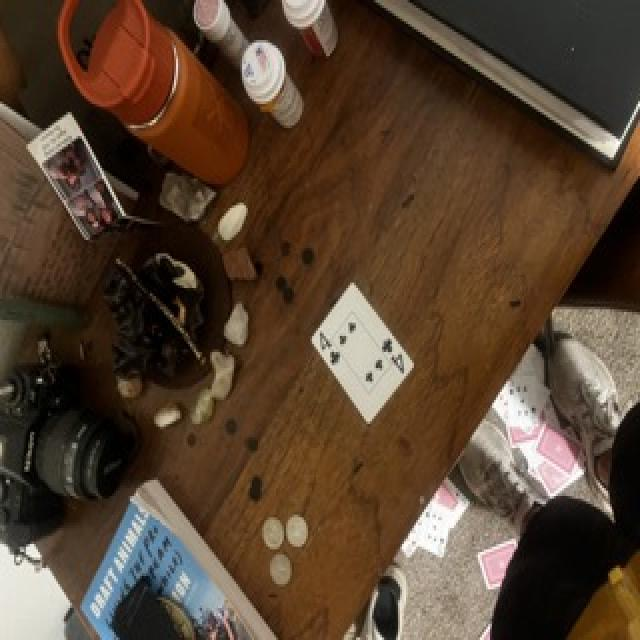4 of clubs: (311, 283, 414, 423)
